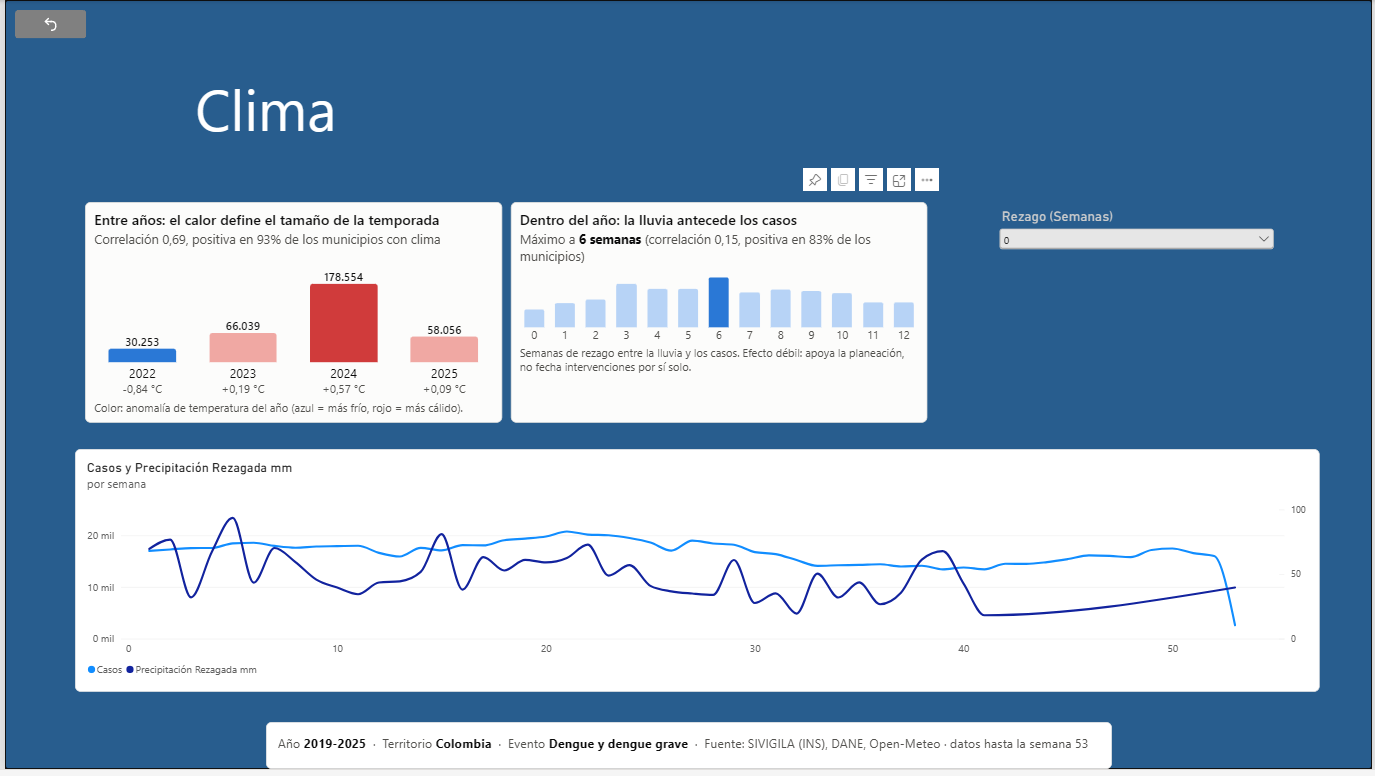

This screenshot's page, from the dashboard's own definition file:
{"tool":"powerbi","page":{"name":"Página 4","canvas":[1920,1080],"ordinal":3},"visuals":[{"type":"htmlContent443BE3AD55E043BF878BED274D3A6855","fields":{"content":["_Medidas.HTML Contexto"]},"box":[366.2,1014,1187.6,65.7],"z":0},{"type":"htmlContent443BE3AD55E043BF878BED274D3A6855","fields":{"content":["_Medidas.HTML P4 Clima"]},"box":[97.5,269.2,1215.3,360.4],"z":1},{"type":"textbox","box":[113.8,97.8,504.8,116.7],"z":2},{"type":"actionButton","box":[14.6,14.6,100,40],"z":6},{"type":"lineChart","fields":{"Category":["dim_tiempo.semana"],"Y":["_Medidas.Casos"],"Y2":["_Medidas.Precipitación Rezagada mm"]},"box":[97.8,630.3,1747.8,341.4],"z":7},{"type":"slicer","fields":{"Values":["Rezago.Rezago"]},"box":[1392.4,292.4,394.5,201.1],"z":8}]}

Visuals, with their boxes in screenshot pixels (x1, y1, x2, y2), scaled from the page's 1920x1080 canvas onto the 1375x776 screenshot:
htmlContent443BE3AD55E043BF878BED274D3A6855 - _Medidas.HTML Contexto: bbox=(262, 729, 1113, 775)
htmlContent443BE3AD55E043BF878BED274D3A6855 - _Medidas.HTML P4 Clima: bbox=(70, 193, 940, 452)
textbox: bbox=(81, 70, 443, 154)
actionButton: bbox=(10, 10, 82, 39)
lineChart - dim_tiempo.semana x _Medidas.Casos: bbox=(70, 453, 1322, 698)
slicer - Rezago.Rezago: bbox=(997, 210, 1280, 355)
